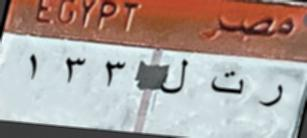1: (23, 50, 46, 83)
3: (97, 61, 132, 92), (60, 52, 89, 87)
laam: (160, 57, 193, 97)
raa: (257, 79, 290, 114)
taa: (205, 70, 250, 98)
